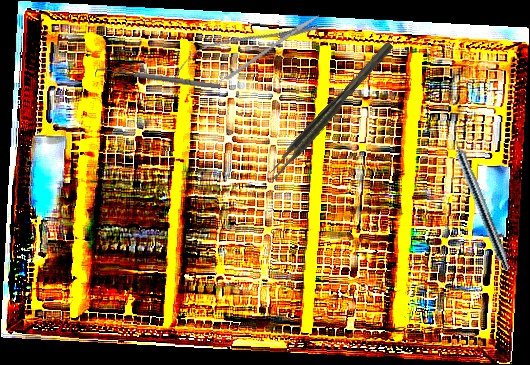Handpiece: (445, 125, 515, 273)
Hook Surgical: (94, 65, 222, 95)
Micro Scissor: (163, 0, 330, 102)
Tissue Forceps: (264, 40, 399, 183)
